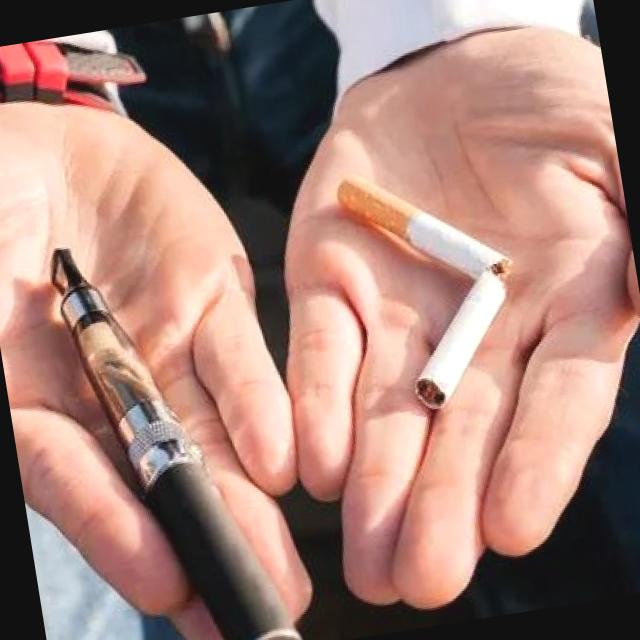smoke: (39, 215, 309, 640), (316, 143, 514, 300), (375, 276, 529, 429)
